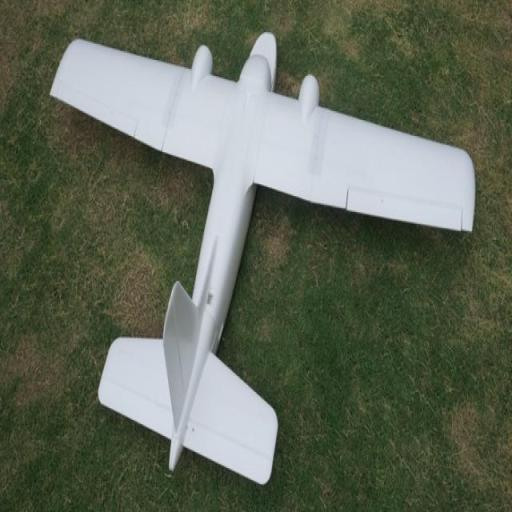uav: (40, 24, 486, 470)
